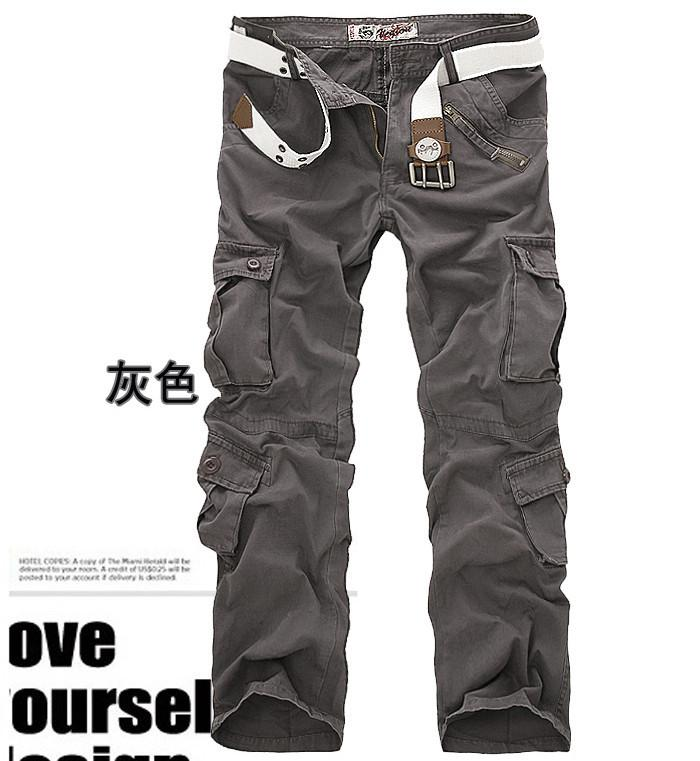pants: (208, 8, 570, 732)
